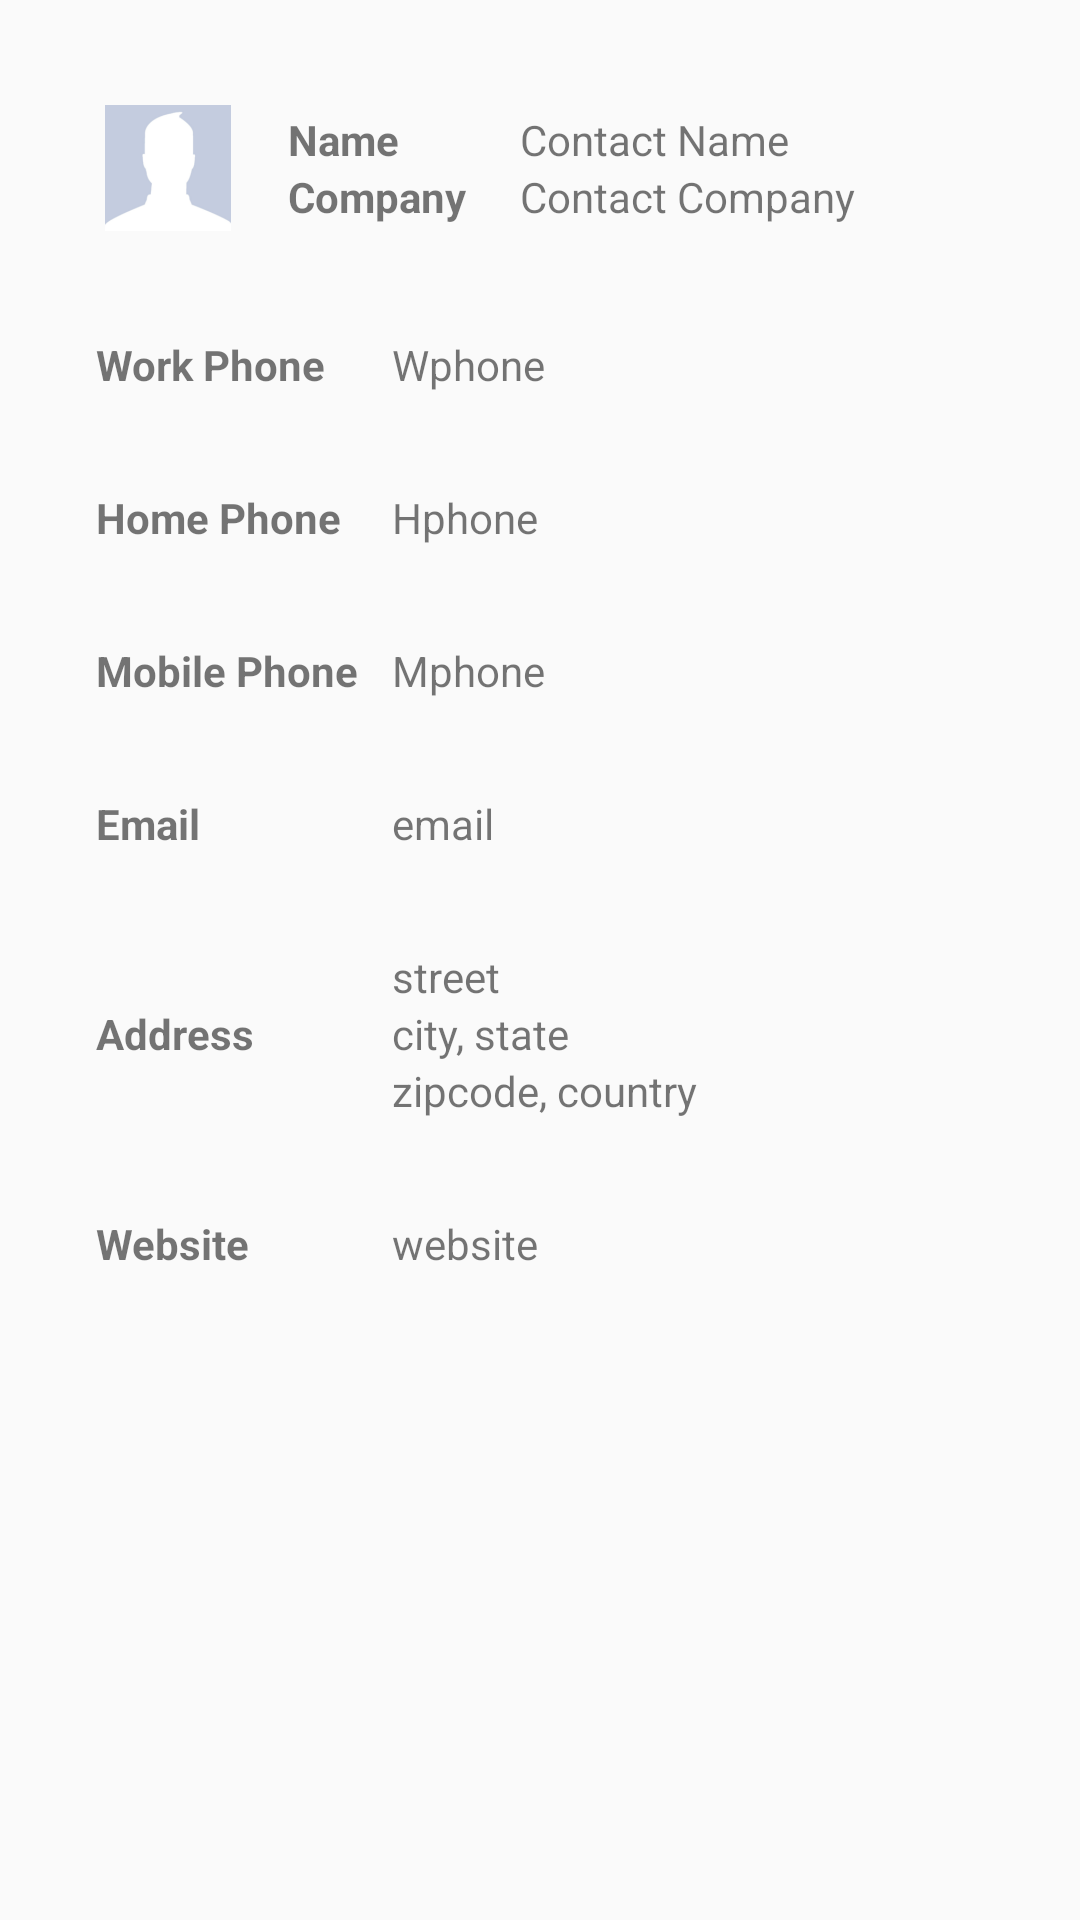

Named icons in this screenshot (1080px x 1920px) and their centers, point (x, y):
profilepic: point (168, 164)
